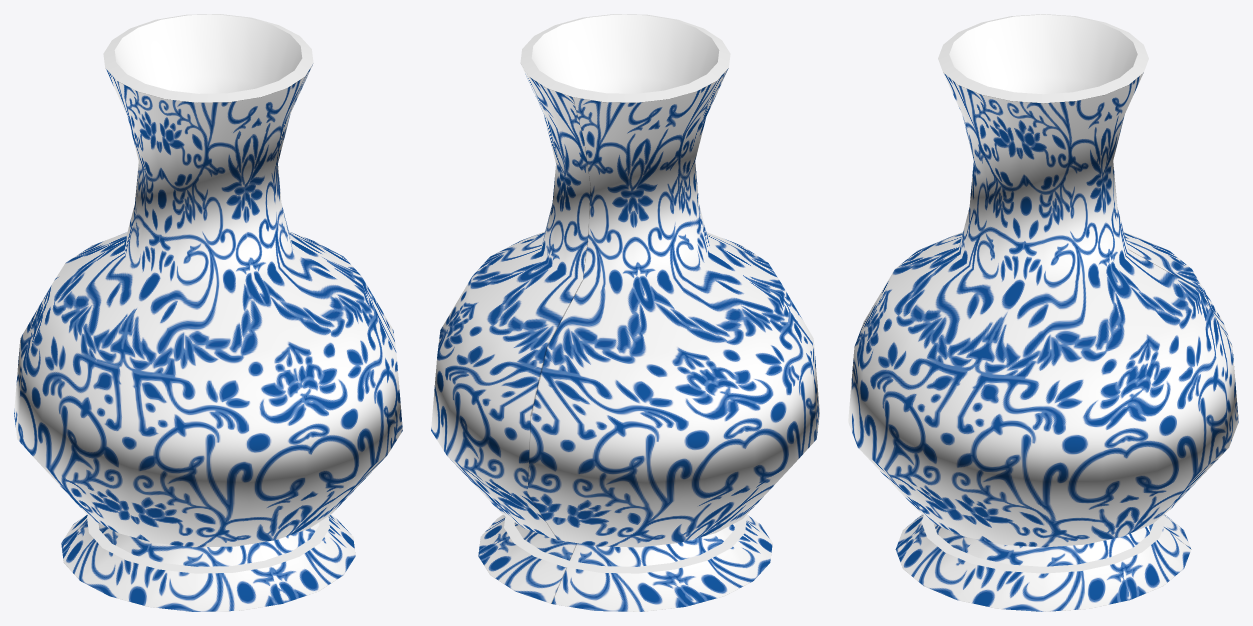
The model's file is jaipurBluePottery.glb.
3 renders of one model, left to right at view 1: azimuth 30°, elevation 25°; view 2: azimuth 150°, elevation 25°; view 3: azimuth 270°, elevation 25°, orthographic.
Parts seen in each view (by area): view 1: pCylinder2; view 2: pCylinder2; view 3: pCylinder2.
Part boxes in pixels (x1,y1,x2,y2): pCylinder2: [14, 14, 402, 611]; pCylinder2: [431, 14, 819, 611]; pCylinder2: [848, 14, 1238, 611].
Bounding box in the file's own units: 64.4 × 90.06 × 64.4.
2 materials, 1 textured.
